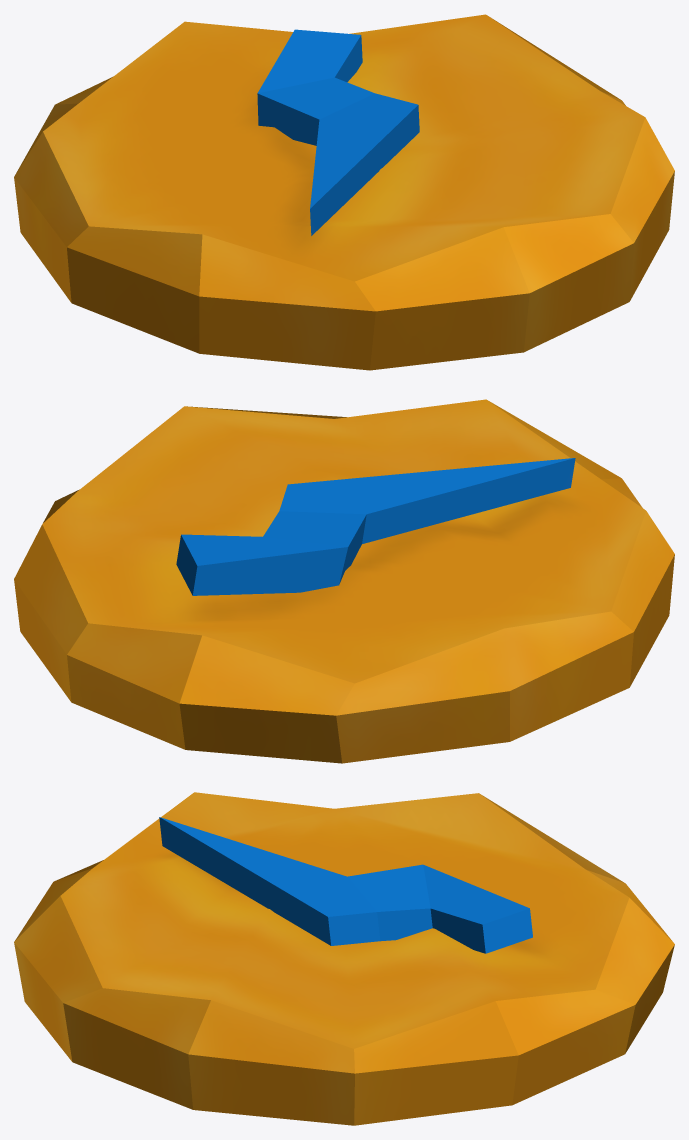
The model's file is zeus_button.fbx.
3 views of the same model, one above another, from view 1: azimuth 30°, elevation 25°; view 2: azimuth 150°, elevation 25°; view 3: azimuth 270°, elevation 25° (orthographic). The views are drawn at different scales.
Visible parts, largest first — view 1: zeus_switch; view 2: zeus_switch; view 3: zeus_switch.
Boxes of the visible parts, left/top/right/bottom form: zeus_switch: left=14, top=14, right=674, bottom=370; zeus_switch: left=14, top=399, right=674, bottom=763; zeus_switch: left=14, top=792, right=674, bottom=1125.
Bounding box in the file's own units: 165 × 35.15 × 177.
